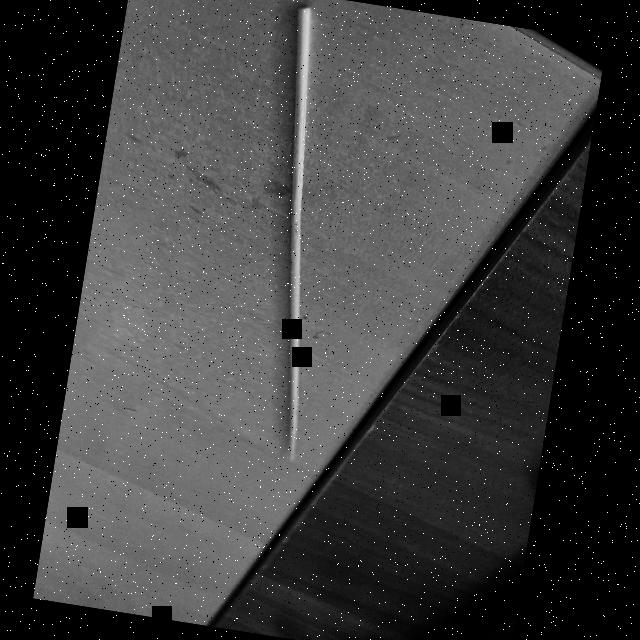stick: (219, 0, 364, 460)
